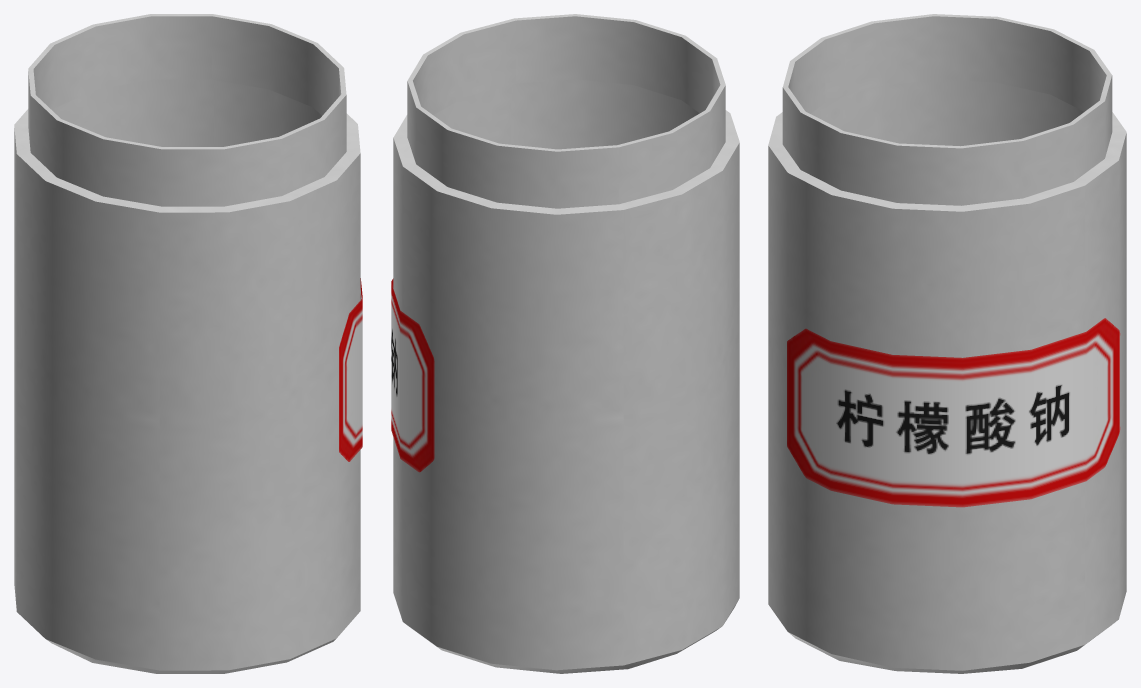
The model's file is SM_柠檬酸钠.fbx.
3 views of the same model, side by side, from view 1: azimuth 30°, elevation 25°; view 2: azimuth 150°, elevation 25°; view 3: azimuth 270°, elevation 25° (orthographic).
Parts seen in each view (by area): view 1: SM_柠檬酸钠; view 2: SM_柠檬酸钠; view 3: SM_柠檬酸钠.
Part boxes in pixels (bbox=[...]): SM_柠檬酸钠: bbox=[14, 14, 362, 673]; SM_柠檬酸钠: bbox=[391, 14, 739, 673]; SM_柠檬酸钠: bbox=[768, 14, 1126, 673].
Bounding box in the file's own units: 77.51 × 128 × 79.8.
